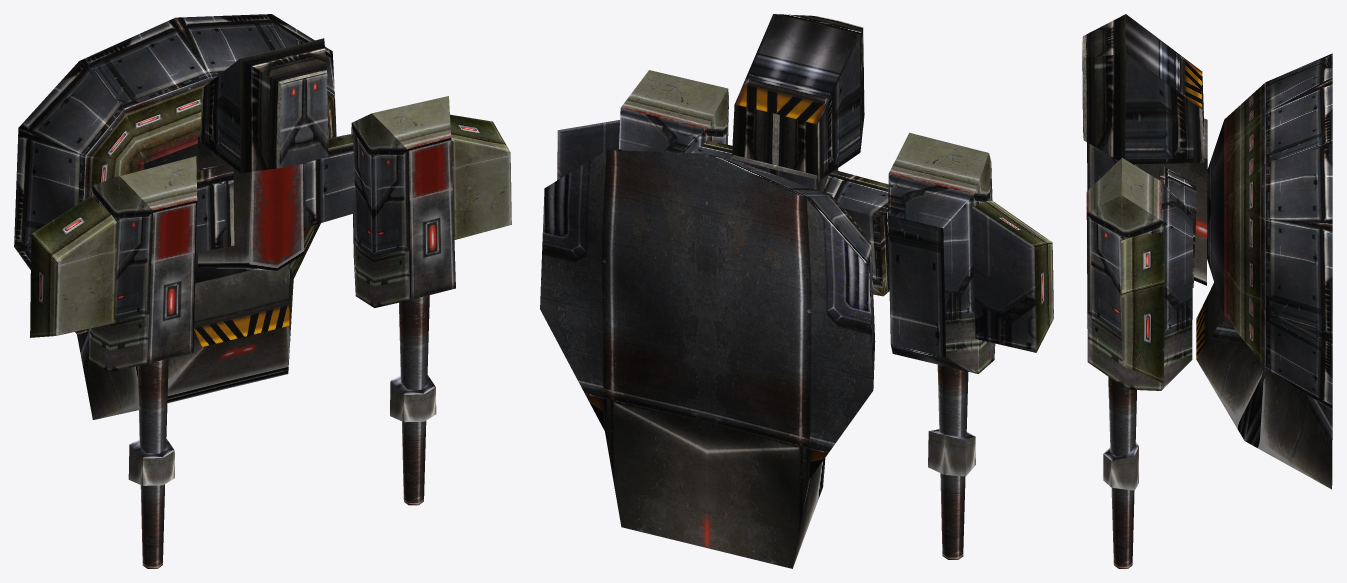
File: turret-13.obj
The picture shows the model from 3 angles, left to right: view 1: azimuth 30°, elevation 25°; view 2: azimuth 150°, elevation 25°; view 3: azimuth 270°, elevation 25°; orthographic projection. The views are drawn at different scales.
Visible parts, largest first — view 1: body, gun_02, gun_01, head; view 2: body, gun_02, head, gun_01; view 3: body, gun_01, head, gun_02.
Part boxes in pixels (box(x1,y1,x2,y2)): body: box(14, 14, 336, 419); gun_02: box(30, 156, 197, 568); gun_01: box(351, 96, 511, 505); head: box(196, 38, 355, 270); body: box(540, 150, 875, 568); gun_02: box(888, 132, 1053, 559); head: box(691, 14, 889, 296); gun_01: box(557, 70, 728, 180); body: box(1196, 53, 1332, 489); gun_01: box(1086, 158, 1192, 568); head: box(1082, 14, 1207, 287); gun_02: box(1087, 142, 1134, 190).
Size of the model in its own units: 4.91 by 4.92 by 2.36.
Materials: 1 (1 with a texture image).
